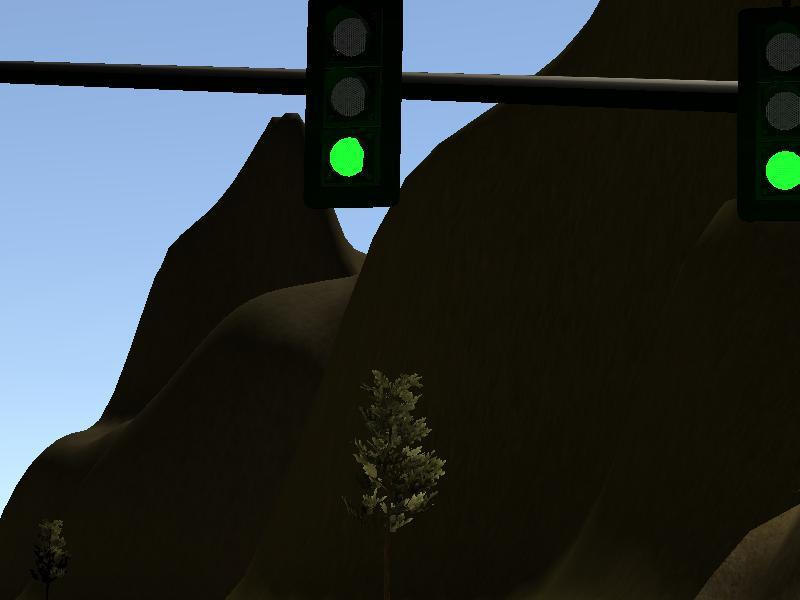Green: (311, 1, 393, 201), (753, 2, 800, 209)
